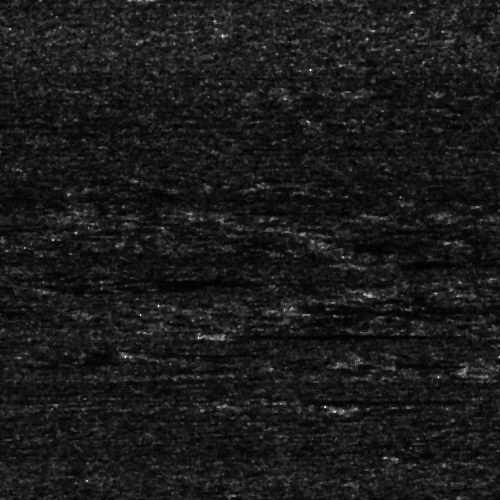object: (242, 395, 357, 404), (177, 328, 260, 337), (344, 257, 417, 266), (257, 307, 310, 312), (485, 361, 500, 366)
shadow: (219, 328, 451, 337), (300, 395, 475, 404), (284, 307, 460, 312), (381, 257, 441, 266)
